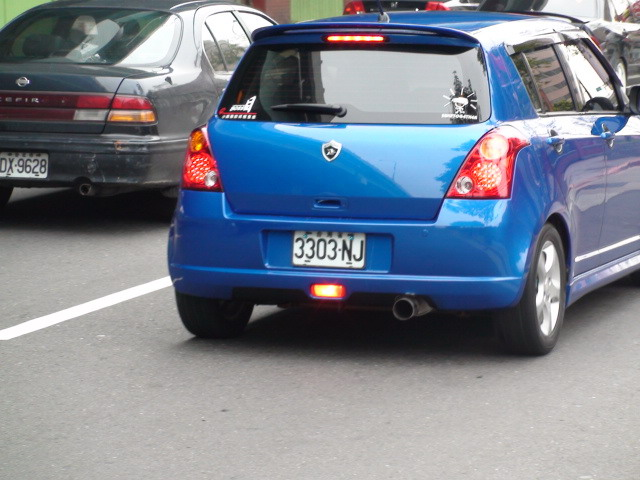plate: (291, 225, 370, 272), (0, 149, 53, 185)
